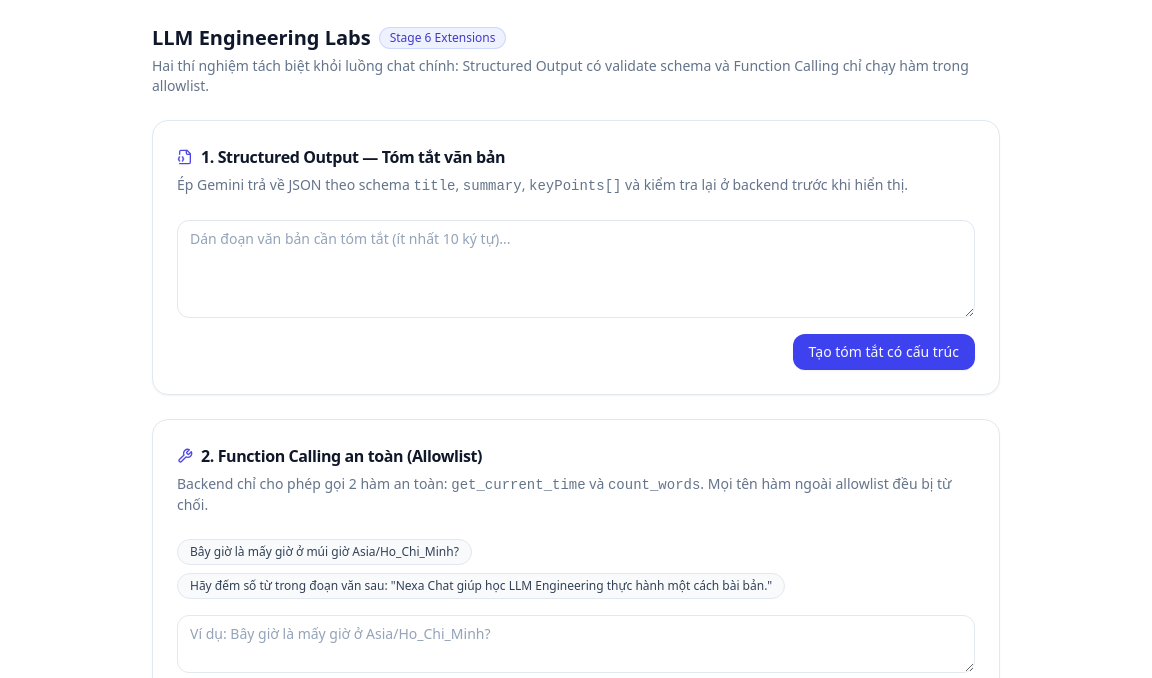
Test: LlmLabsPanel › renders structured summary result from backend
This screenshot has width=1152, height=678.
Type "Đây là đoạn văn bản mẫu dài hơn mười ký tự." into the text box labelled "văn bản cần tóm tắt" at (576, 269), box top-left (177, 220), bottom-right (975, 318)
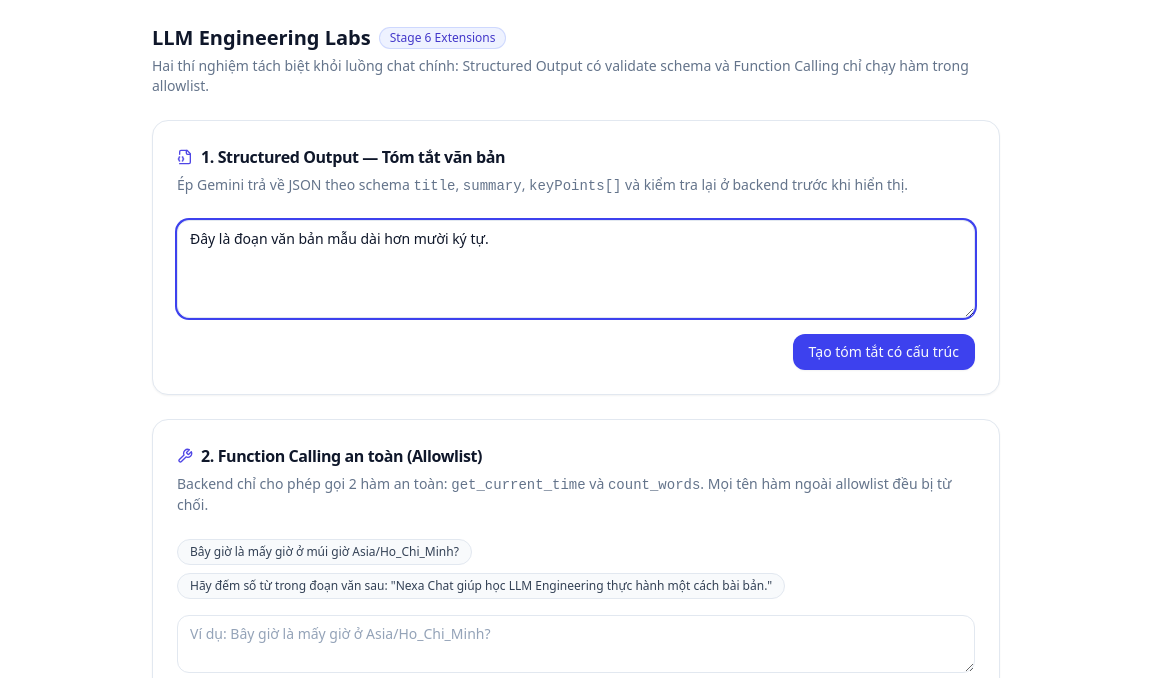
Click the button "Tạo tóm tắt có cấu trúc" at (884, 352), box top-left (793, 334), bottom-right (975, 370)
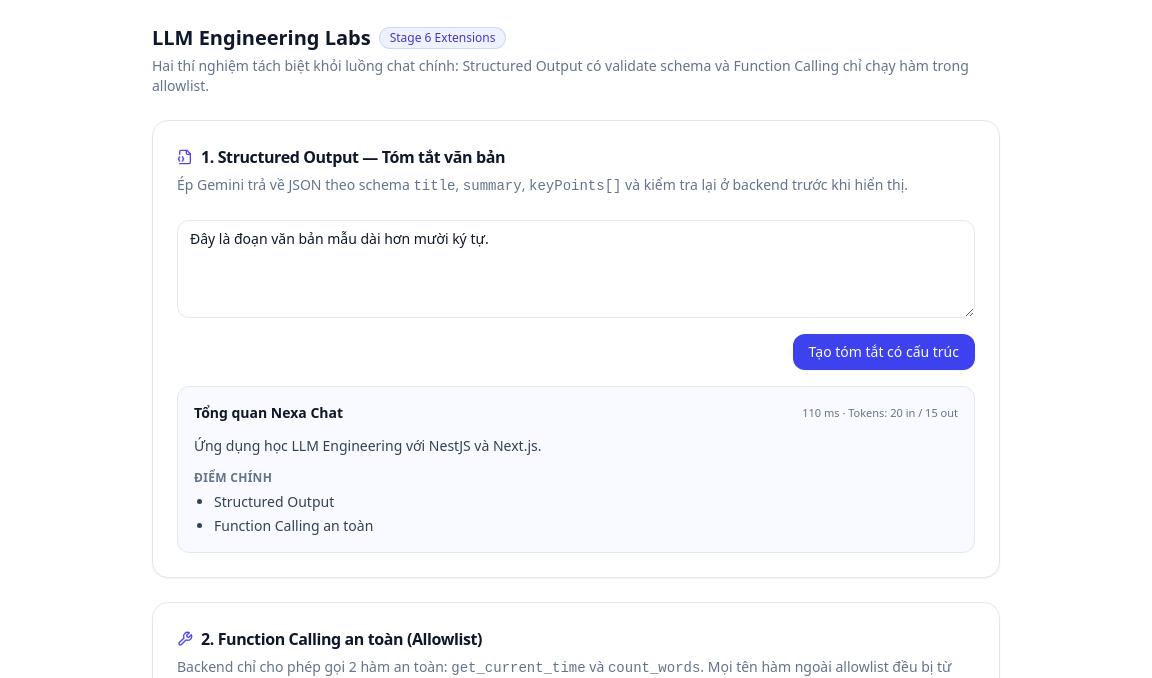
Check: the heading "Tổng quan Nexa Chat" is shown, box top-left (194, 403), bottom-right (343, 423)
Check: the list item "Structured Output" is shown, box top-left (214, 492), bottom-right (334, 511)
